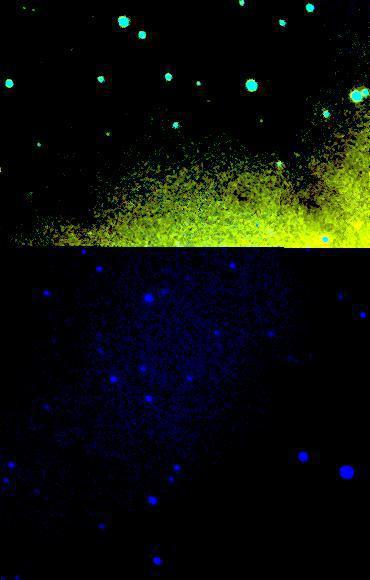star: (247, 103, 277, 133)
